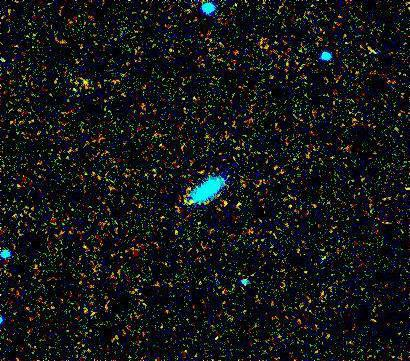star: (210, 188, 240, 218)
